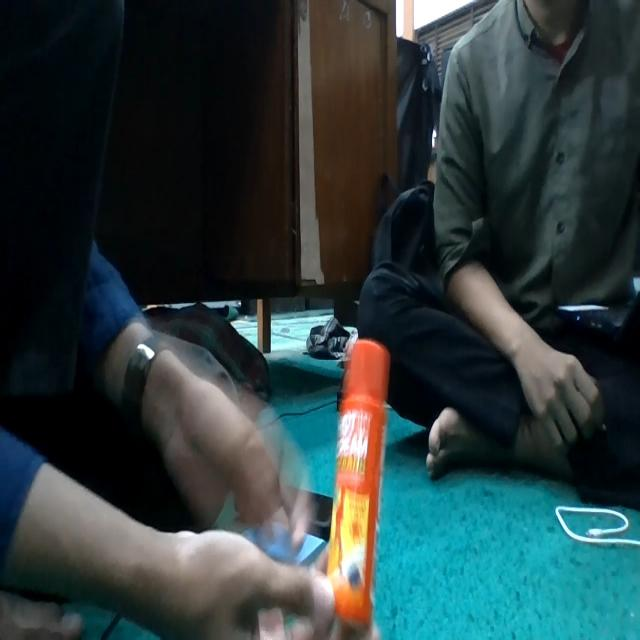Boncabe: (326, 339, 390, 639)
Powerbank: (295, 534, 326, 564)
